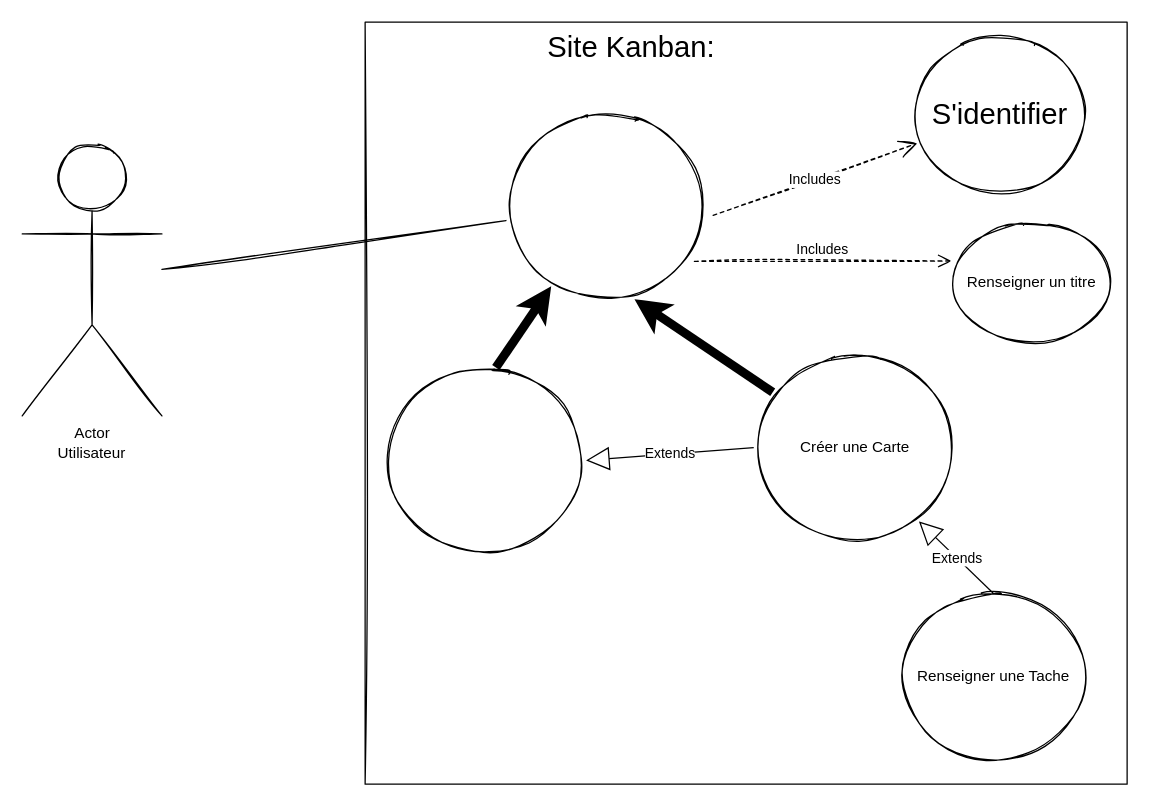
Image size: 1149x806. Some labels were removed from this diagram. Each missing label, with the box of its shape:
Créer: (504, 110, 708, 302)
Créer une Liste: (382, 364, 586, 556)
